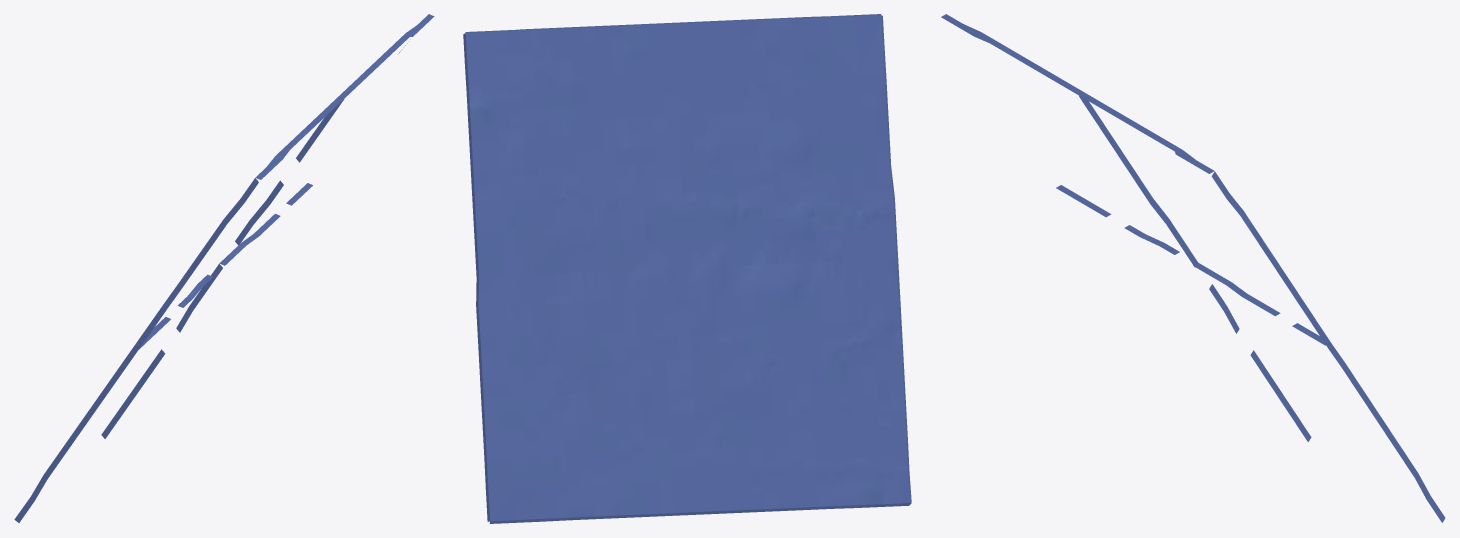
3 renders of one model, left to right at view 1: azimuth 30°, elevation 25°; view 2: azimuth 150°, elevation 25°; view 3: azimuth 270°, elevation 25°, orthographic. The views are drawn at different scales.
Bounding box in the file's own units: 158589 × 135304 × 146700.
Materials: 1 (1 with a texture image).
